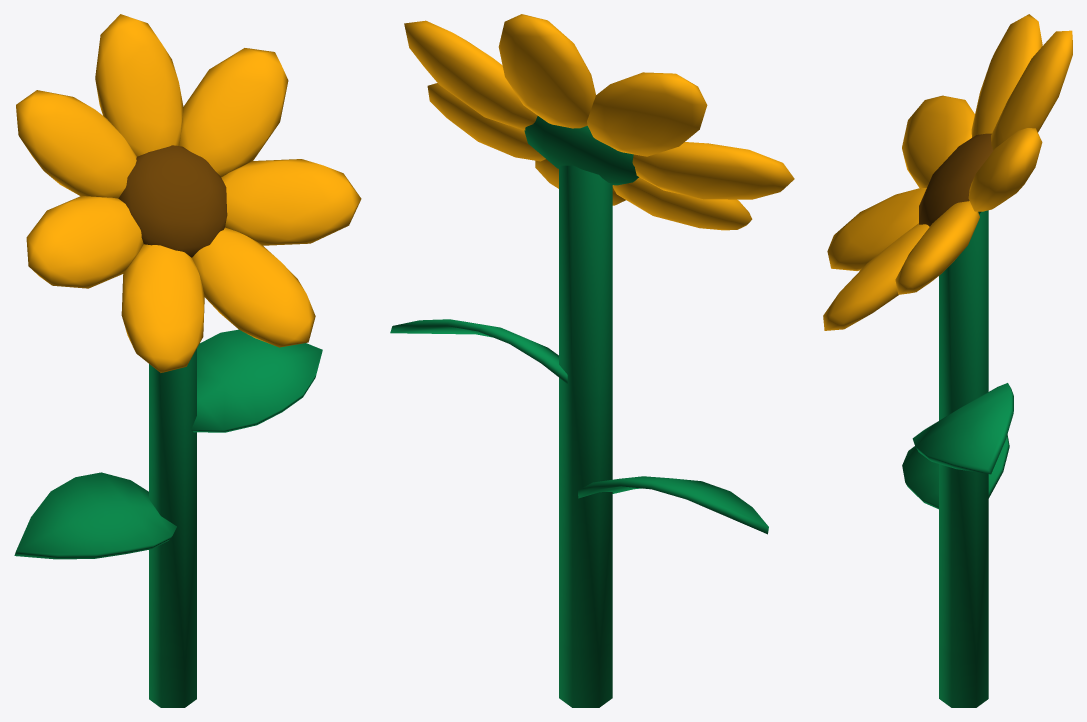
File: Flover_01.02.fbx
3 renders of one model, left to right at view 1: azimuth 30°, elevation 25°; view 2: azimuth 150°, elevation 25°; view 3: azimuth 270°, elevation 25°, orthographic. The views are drawn at different scales.
Visible parts, largest first — view 1: Flover_01.02; view 2: Flover_01.02; view 3: Flover_01.02.
Boxes of the visible parts, bbox=[...] form: Flover_01.02: bbox=[14, 14, 361, 707]; Flover_01.02: bbox=[390, 14, 794, 707]; Flover_01.02: bbox=[823, 14, 1072, 707].
Size of the model in its own units: 20.47 by 13.04 by 38.5.
